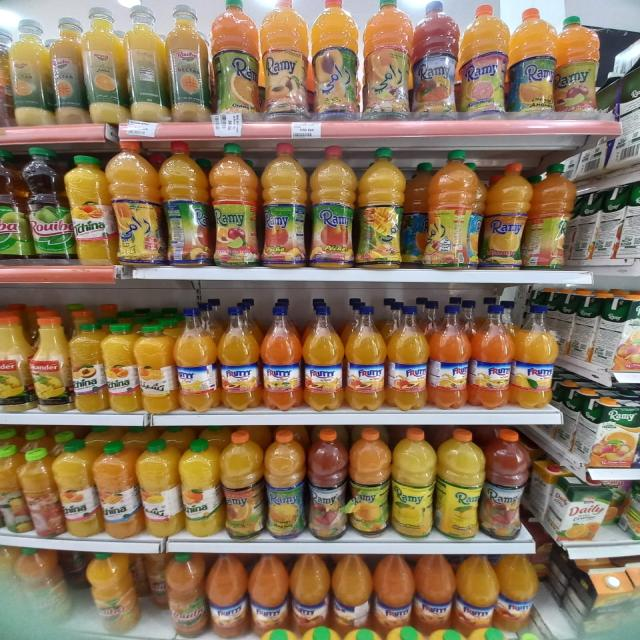bifa_carton: (555, 481, 608, 542)
ramy_carton: (578, 395, 640, 469)
ramy_plastique: (104, 144, 160, 266), (158, 140, 210, 266), (426, 150, 480, 270), (310, 0, 362, 121), (210, 0, 262, 120), (209, 142, 259, 266), (260, 142, 309, 267), (260, 0, 311, 120), (355, 147, 405, 269), (362, 1, 413, 120), (456, 5, 509, 118), (409, 2, 459, 119), (522, 163, 576, 269), (480, 428, 530, 542), (434, 428, 483, 543), (506, 7, 557, 117), (481, 161, 532, 270), (260, 432, 308, 546), (310, 150, 355, 267), (219, 429, 265, 543), (348, 428, 394, 540), (305, 427, 349, 542), (553, 14, 601, 116), (394, 425, 436, 540), (218, 308, 265, 410), (344, 306, 388, 413), (469, 305, 514, 408), (426, 307, 471, 409), (302, 306, 345, 412), (514, 308, 560, 407), (260, 306, 303, 410), (174, 312, 218, 413), (386, 308, 429, 410), (205, 553, 249, 639), (372, 554, 416, 637), (453, 554, 498, 634), (248, 554, 290, 638), (492, 554, 536, 634), (411, 554, 453, 637), (331, 554, 372, 637), (401, 163, 434, 265), (290, 554, 330, 637)
rouiba_plastique: (21, 145, 73, 260), (164, 3, 214, 122), (125, 5, 173, 125), (80, 8, 128, 126), (8, 20, 54, 128), (48, 16, 91, 126), (86, 552, 140, 632), (14, 547, 68, 622), (166, 553, 210, 638), (143, 551, 171, 605)
skander_plastique: (31, 315, 74, 413), (0, 312, 39, 412)
tchina_plastique: (64, 154, 114, 263), (91, 438, 144, 540), (50, 439, 103, 540), (17, 445, 69, 541), (178, 435, 225, 540), (136, 436, 183, 540), (135, 327, 180, 413), (100, 324, 142, 414), (68, 319, 108, 413)
